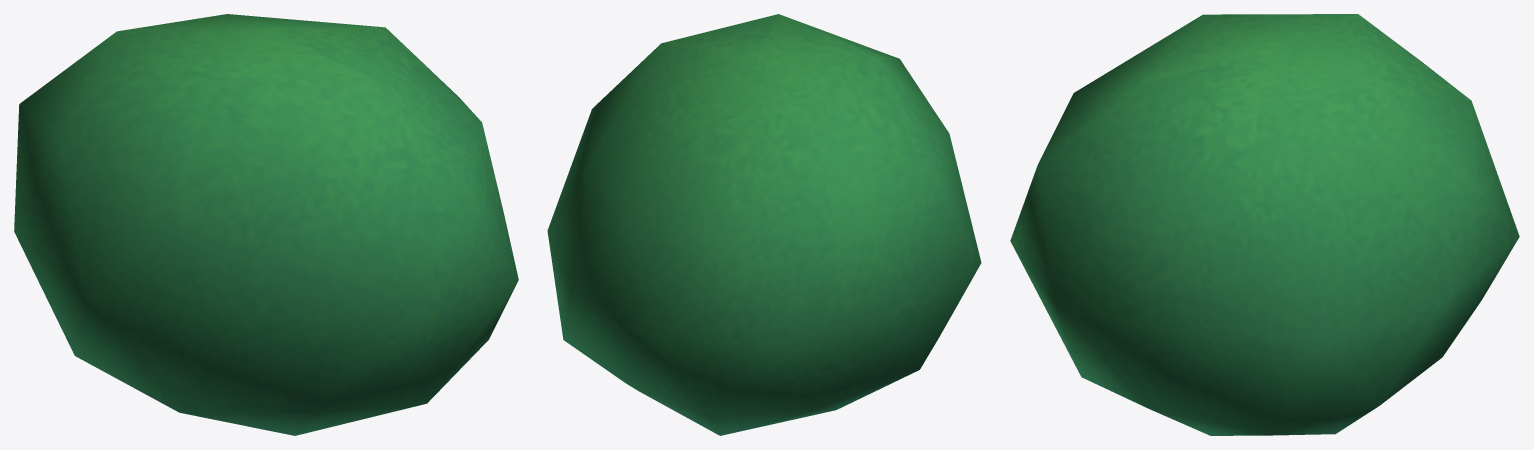
The model's file is bush_1.glb.
The picture shows the model from 3 angles, left to right: view 1: azimuth 30°, elevation 25°; view 2: azimuth 150°, elevation 25°; view 3: azimuth 270°, elevation 25°; orthographic projection. The views are drawn at different scales.
Visible parts, largest first — view 1: Icosphere.038_Icosphere.133; view 2: Icosphere.038_Icosphere.133; view 3: Icosphere.038_Icosphere.133.
Part boxes in pixels (box(x1,y1,x2,y2)): Icosphere.038_Icosphere.133: box(14, 14, 518, 435); Icosphere.038_Icosphere.133: box(547, 14, 981, 435); Icosphere.038_Icosphere.133: box(1010, 14, 1519, 435).
Bounding box in the file's own units: 1.16 × 1.05 × 1.33.
1 material, 1 textured.
